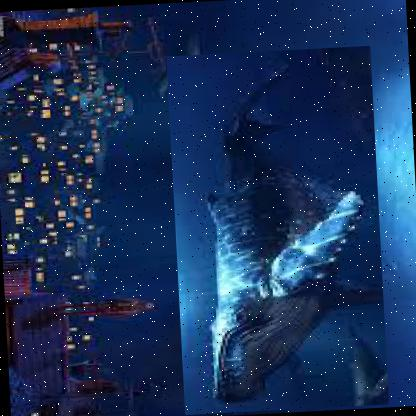blue_whale: (165, 44, 388, 414)
